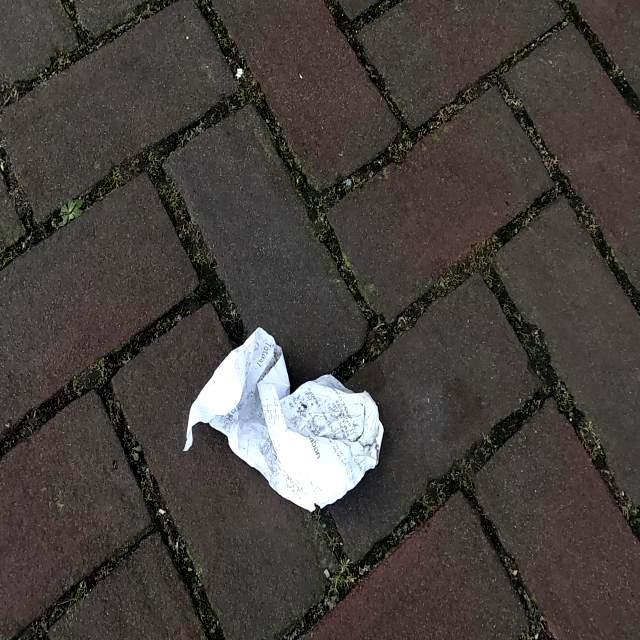Paper: (182, 324, 386, 518)
